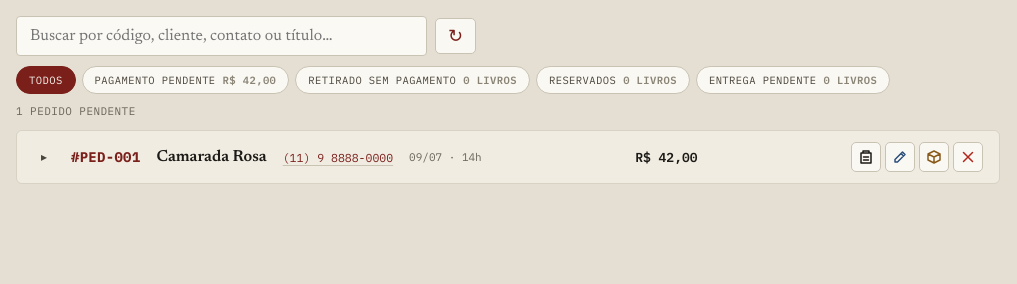
Test case: Backoffice — Pedidos (linhas por unidade) › mobile: card nasce fechado e o chevron abre
The image size is (1017, 284).
Expected: the text "Camarada Rosa" is shown, [156,149,267,165]
Expected: the text "A Comuna e o Fogo" is not shown
Click the button named "expandir pedido" at (44, 157), box [33,151,55,163]
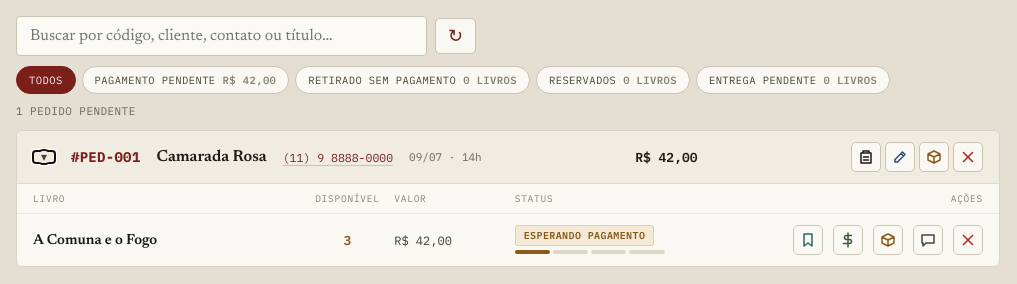
Expected: the text "A Comuna e o Fogo" is shown, [33,232,157,248]
